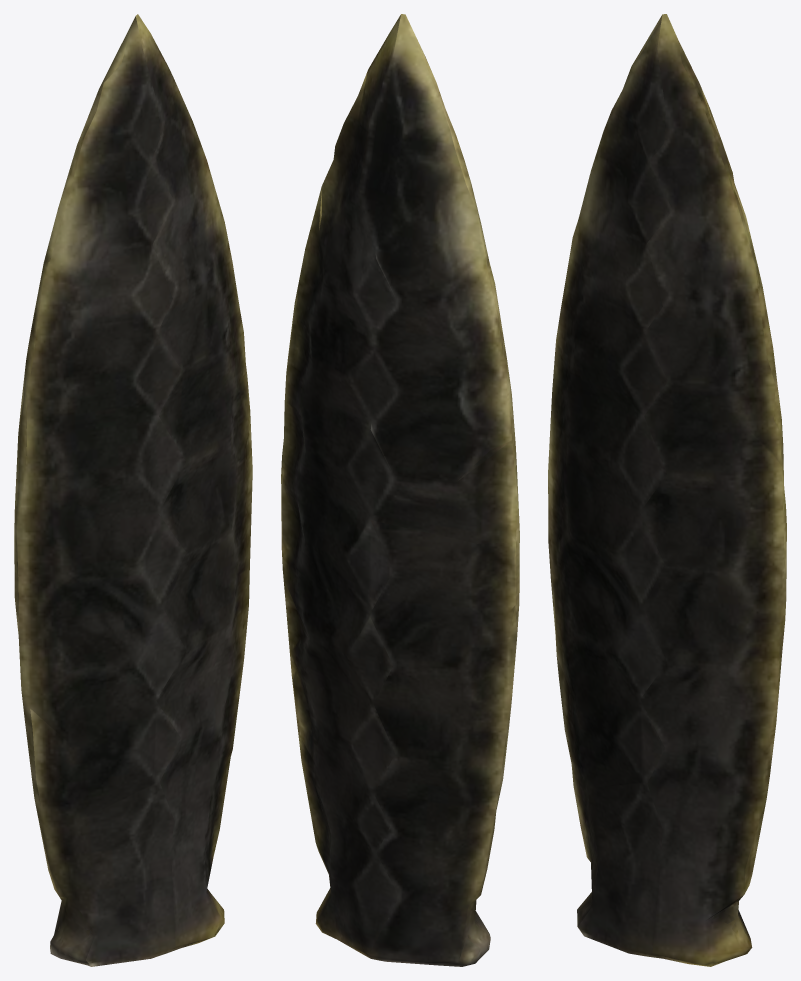
3 views of the same model, side by side, from view 1: azimuth 30°, elevation 25°; view 2: azimuth 150°, elevation 25°; view 3: azimuth 330°, elevation 25° (orthographic).
Parts seen in each view (by area): view 1: obsidian-blade; view 2: obsidian-blade; view 3: obsidian-blade.
Part boxes in pixels (box(x1,y1,x2,y2)): obsidian-blade: box(14, 14, 252, 966); obsidian-blade: box(281, 14, 519, 966); obsidian-blade: box(548, 14, 786, 966).
Bounding box in the file's own units: 0.077 × 0.2908 × 0.0333.
1 material, 1 textured.
